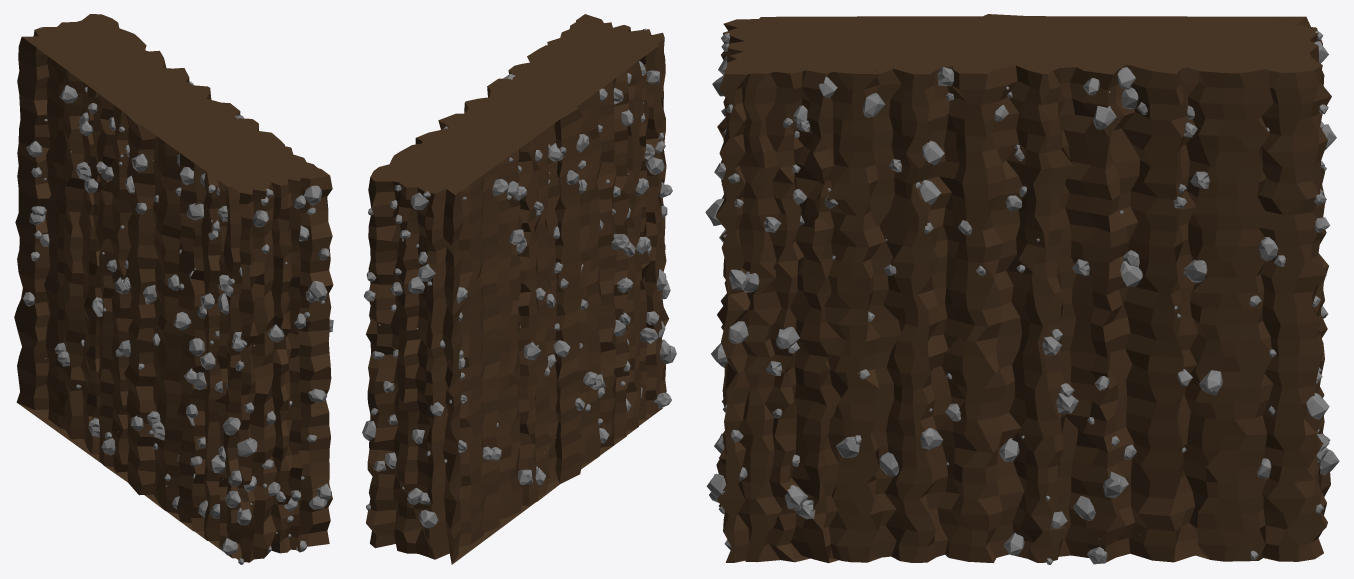
File: wall_back.fbx
The picture shows the model from 3 angles, left to right: view 1: azimuth 30°, elevation 25°; view 2: azimuth 150°, elevation 25°; view 3: azimuth 270°, elevation 25°; orthographic projection. The views are drawn at different scales.
Visible parts, largest first — view 1: Cube.002; view 2: Cube.002; view 3: Cube.002.
Boxes of the visible parts, x1,y1,x2,y2 form: Cube.002: (14,14,333,564); Cube.002: (362,14,676,564); Cube.002: (705,14,1339,564).
Bounding box in the file's own units: 5488 × 18125 × 20996.
